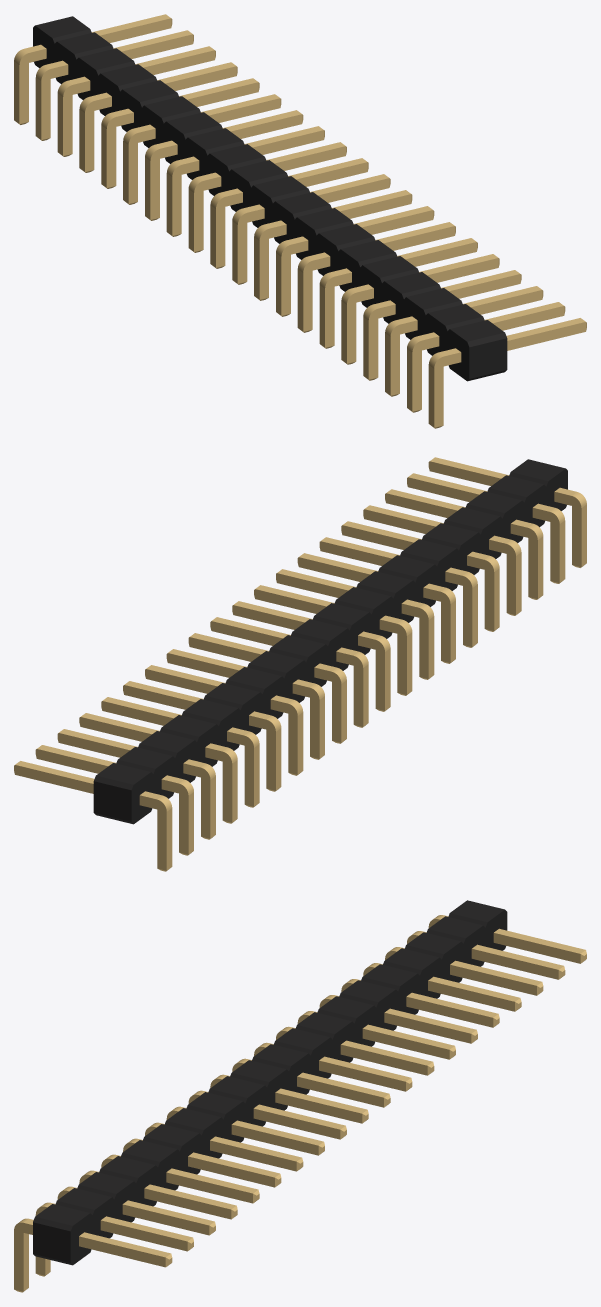
File: kc-pinheader_1x20_p2.54mm_horizontal.glb
The picture shows the model from 3 angles, top to bottom: view 1: azimuth 30°, elevation 25°; view 2: azimuth 150°, elevation 25°; view 3: azimuth 330°, elevation 25°; orthographic projection.
Visible parts, largest first — view 1: 0.75_0.5_0.25_0.9, 0_0_0_0; view 2: 0.75_0.5_0.25_0.9, 0_0_0_0; view 3: 0.75_0.5_0.25_0.9, 0_0_0_0.
Part boxes in pixels (x1=…): 0.75_0.5_0.25_0.9: x1=14, y1=14, x2=586, y2=428; 0_0_0_0: x1=33, y1=16, x2=507, y2=381; 0.75_0.5_0.25_0.9: x1=14, y1=457, x2=586, y2=871; 0_0_0_0: x1=93, y1=459, x2=567, y2=824; 0.75_0.5_0.25_0.9: x1=14, y1=915, x2=586, y2=1292; 0_0_0_0: x1=33, y1=900, x2=507, y2=1265.
Bounding box in the file's own units: 1.04 × 0.5542 × 5.08.
